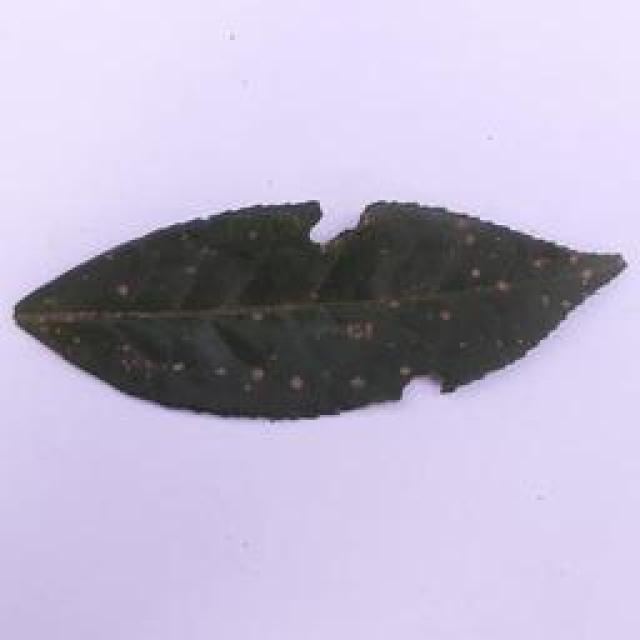Algal Leaf Spot: (0, 189, 640, 423)
